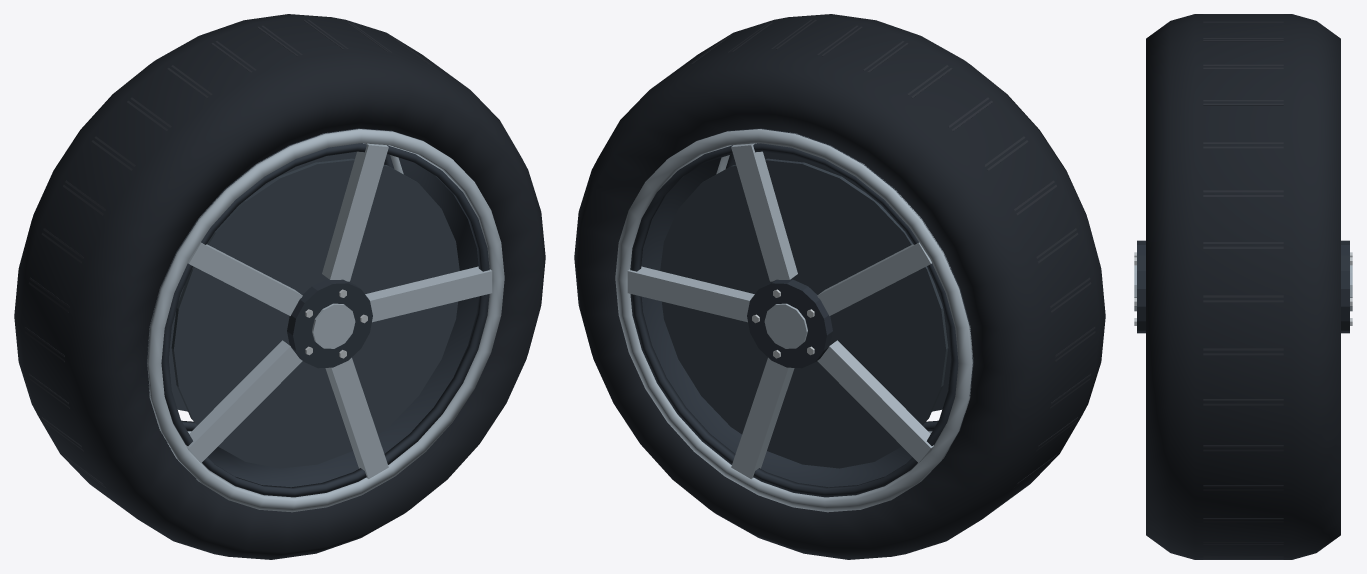
The model's file is oem.glb.
The picture shows the model from 3 angles, left to right: view 1: azimuth 30°, elevation 25°; view 2: azimuth 150°, elevation 25°; view 3: azimuth 270°, elevation 25°; orthographic projection.
Parts seen in each view (by area): view 1: wheel; view 2: wheel; view 3: wheel.
Part boxes in pixels (bbox=[...]): wheel: bbox=[14, 14, 545, 559]; wheel: bbox=[574, 14, 1105, 559]; wheel: bbox=[1134, 14, 1352, 559].
Bounding box in the file's own units: 2 × 2 × 0.8.
